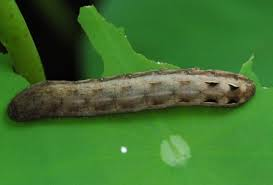Armyworm: (13, 68, 260, 130)
